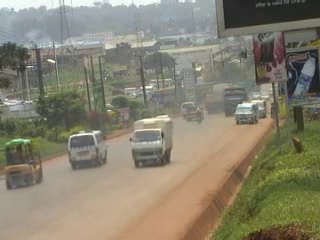Car: (184, 103, 207, 121)
Motorcycle: (195, 106, 202, 126)
